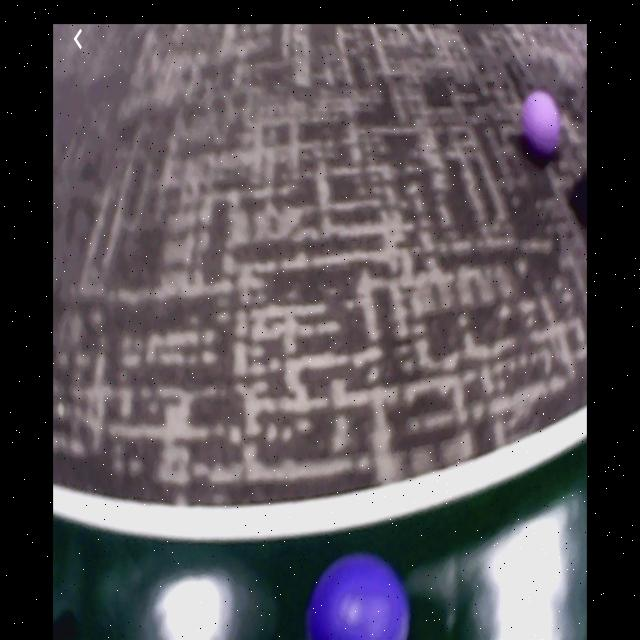ball: (310, 556, 407, 640), (523, 91, 561, 159)
